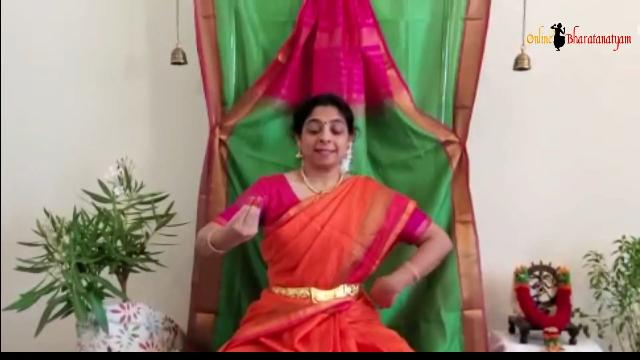mukul: (205, 179, 272, 267)
